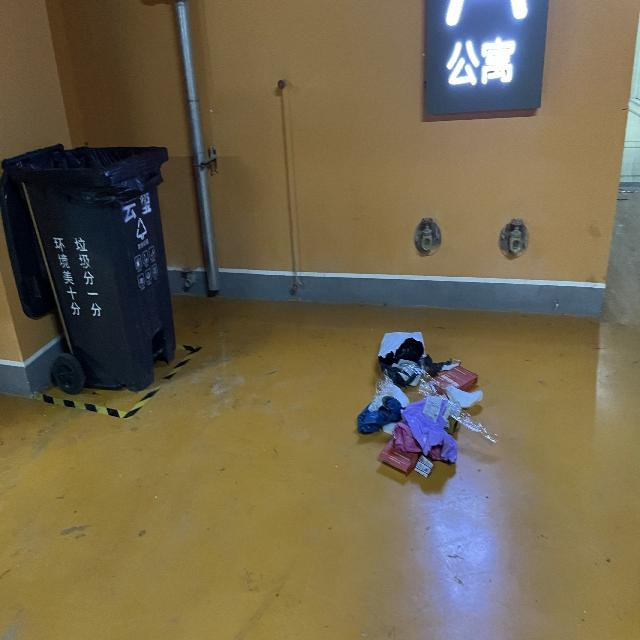garbage: (352, 329, 497, 476)
garbage_bin: (0, 142, 176, 390)
